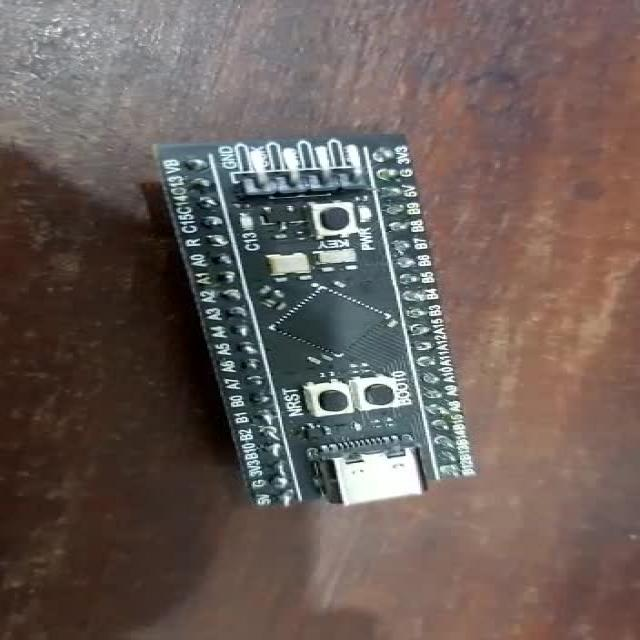stm32: (151, 124, 480, 518)
